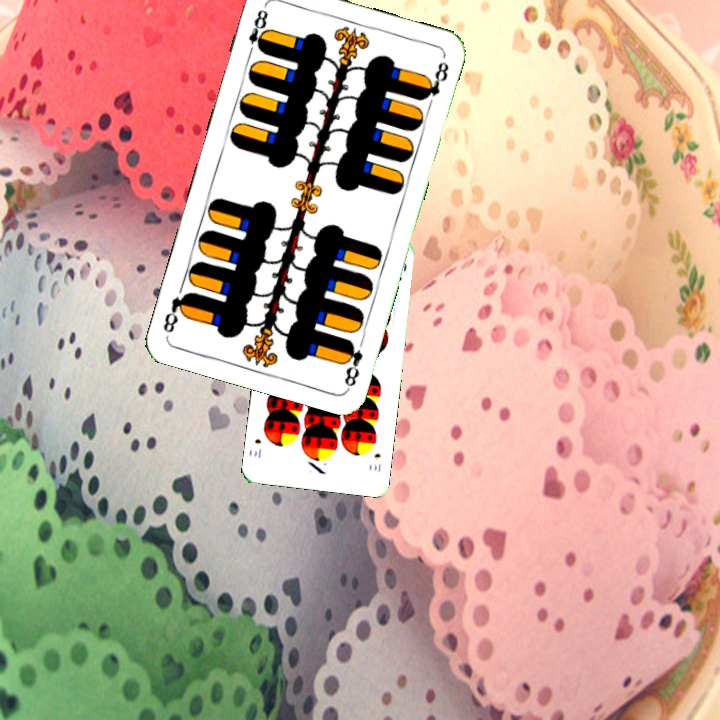E8: (244, 5, 271, 60), (339, 336, 366, 391)
S10: (370, 449, 383, 475)
